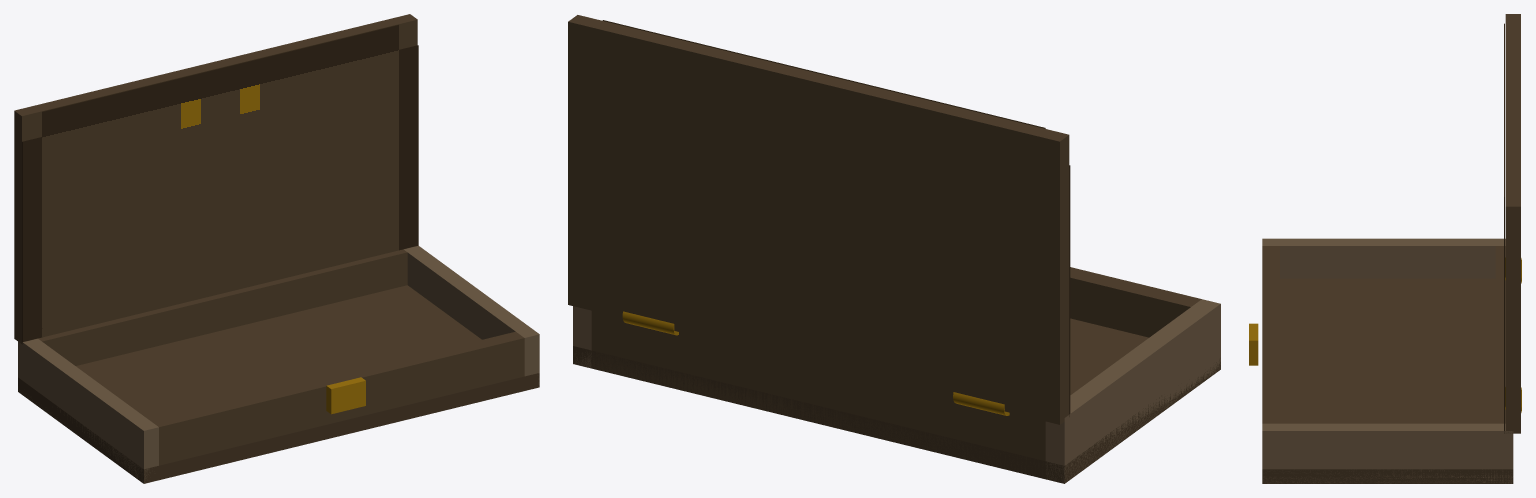
The model's file is CMU3DRMCCigarCasePrintedSmallCloudOpenEmptyStudy.glb.
3 renders of one model, left to right at view 1: azimuth 30°, elevation 25°; view 2: azimuth 150°, elevation 25°; view 3: azimuth 270°, elevation 25°, orthographic. The views are drawn at different scales.
Parts seen in each view (by area): view 1: original inside lid field, recessed cedar liner, front case wall, rear case wall, case bottom panel, left case wall, raised physical open lid, right case wall, front brass latch; view 2: raised physical open lid, rear case wall, left case wall, case bottom panel, front case wall, recessed cedar liner, original inside lid field, right case wall; view 3: recessed cedar liner, right case wall, left case wall, raised physical open lid, case bottom panel, front case wall, rear case wall, front brass latch, original inside lid field.
Part boxes in pixels (left/top/right/bottom): original inside lid field: left=22, top=24, right=418, bottom=344; recessed cedar liner: left=76, top=285, right=481, bottom=420; front case wall: left=150, top=331, right=524, bottom=465; rear case wall: left=38, top=249, right=407, bottom=365; case bottom panel: left=18, top=373, right=539, bottom=483; left case wall: left=18, top=338, right=158, bottom=483; raised physical open lid: left=14, top=14, right=417, bottom=343; right case wall: left=404, top=245, right=539, bottom=384; front brass latch: left=326, top=377, right=365, bottom=414; raised physical open lid: left=568, top=15, right=1069, bottom=424; rear case wall: left=591, top=311, right=1045, bottom=478; left case wall: left=1045, top=299, right=1220, bottom=483; case bottom panel: left=573, top=346, right=1220, bottom=483; front case wall: left=1070, top=267, right=1201, bottom=337; recessed cedar liner: left=1070, top=318, right=1148, bottom=394; original inside lid field: left=602, top=20, right=1070, bottom=416; right case wall: left=573, top=306, right=591, bottom=368; recessed cedar liner: left=1280, top=278, right=1495, bottom=423; right case wall: left=1262, top=423, right=1513, bottom=483; left case wall: left=1262, top=238, right=1505, bottom=278; raised physical open lid: left=1505, top=14, right=1520, bottom=433; case bottom panel: left=1262, top=469, right=1513, bottom=483; front case wall: left=1262, top=246, right=1279, bottom=423; rear case wall: left=1495, top=246, right=1505, bottom=423; front brass latch: left=1249, top=323, right=1258, bottom=365; original inside lid field: left=1504, top=23, right=1504, bottom=433.
Bounding box in the file's own units: 0.625 × 0.42 × 0.3745.
Materials: 5 (1 with a texture image).
